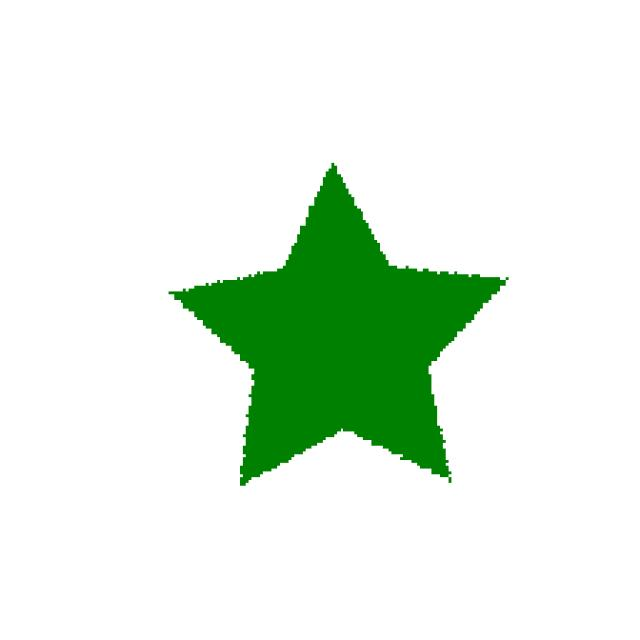Star: (136, 153, 544, 536)
